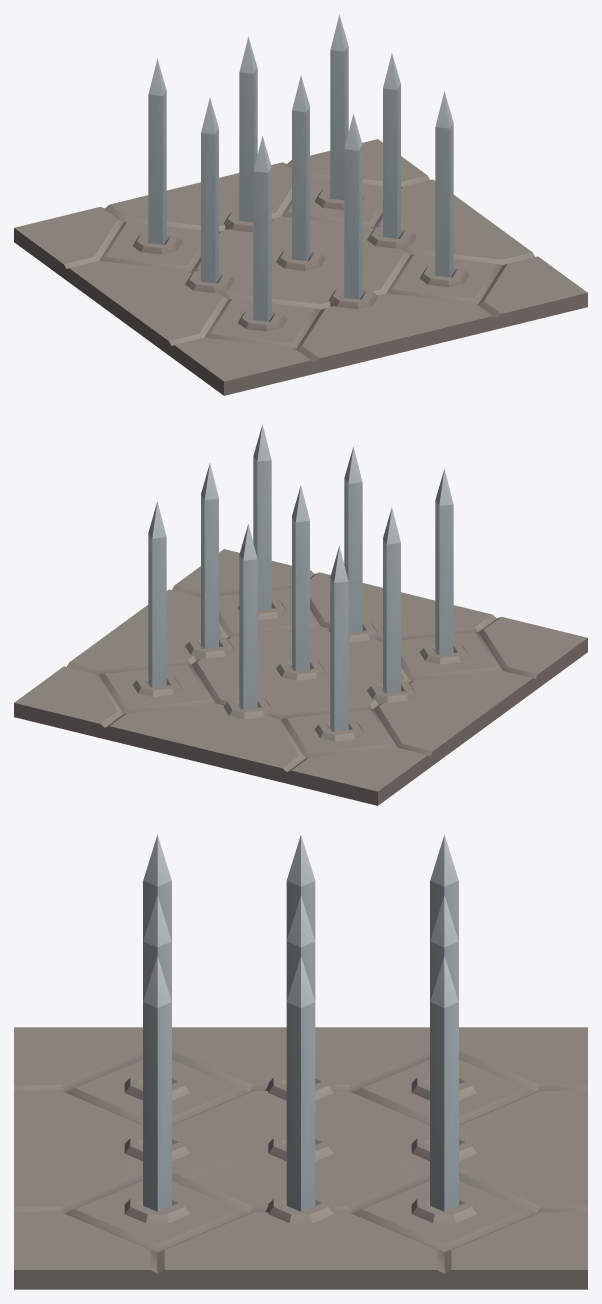
Rendered from floor-tile-big-spikes.glb.
3 views of the same model, one above another, from view 1: azimuth 30°, elevation 25°; view 2: azimuth 150°, elevation 25°; view 3: azimuth 270°, elevation 25° (orthographic). The views are drawn at different scales.
Parts seen in each view (by area): view 1: Cube.14376, spikes; view 2: Cube.14376, spikes; view 3: Cube.14376, spikes.
Boxes of the visible parts, x1,y1,x2,y2 form: Cube.14376: (14, 139, 587, 395); spikes: (148, 14, 453, 321); Cube.14376: (14, 549, 587, 805); spikes: (148, 424, 453, 731); Cube.14376: (14, 1027, 587, 1289); spikes: (143, 834, 458, 1211).
Bounding box in the file's own units: 4 × 2.1 × 4.
1 material, 1 textured.
